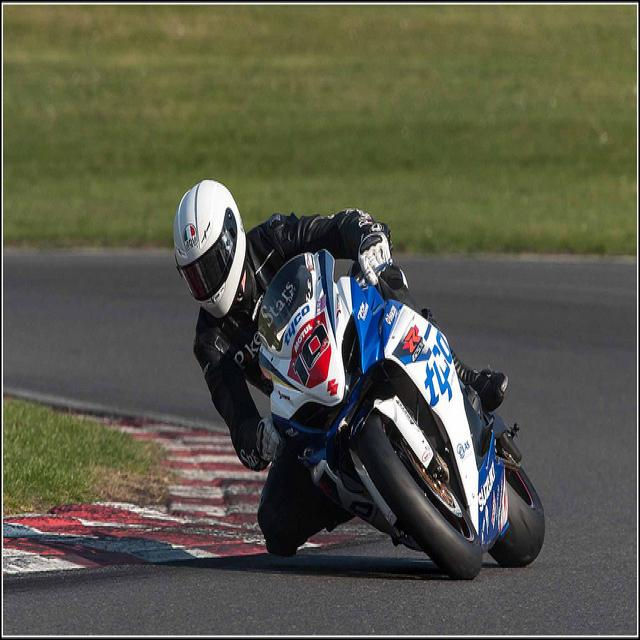motor: (252, 250, 546, 580)
